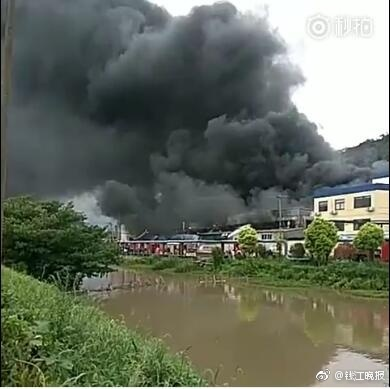smoke: (13, 12, 298, 202)
